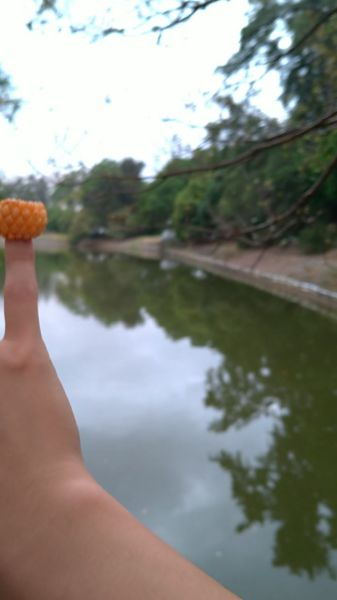eggs: (1, 198, 46, 242)
